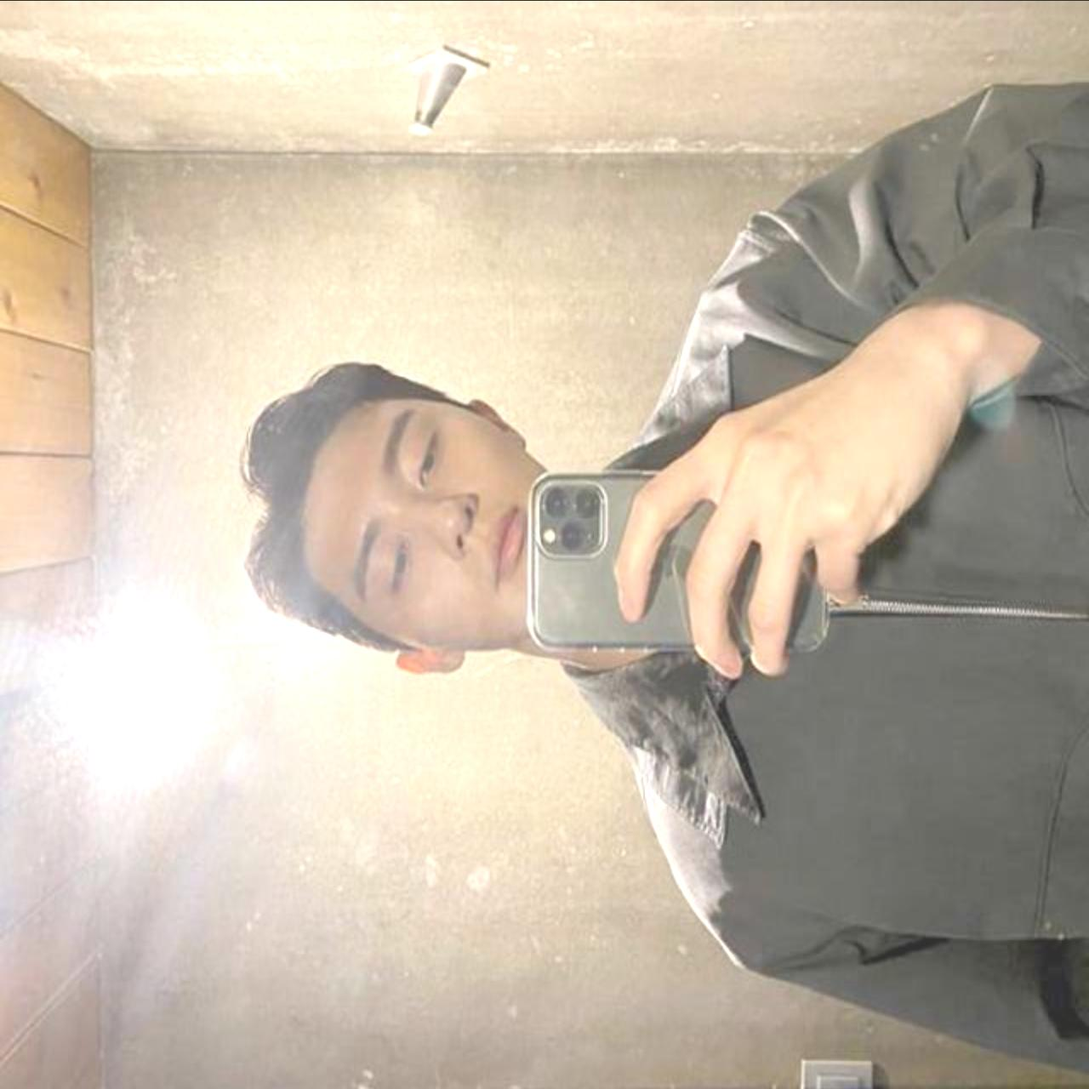phone: (527, 471, 827, 647)
